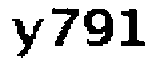1: (117, 7, 147, 52)
7: (49, 7, 80, 50)
9: (82, 7, 115, 49)
y: (9, 14, 44, 60)
